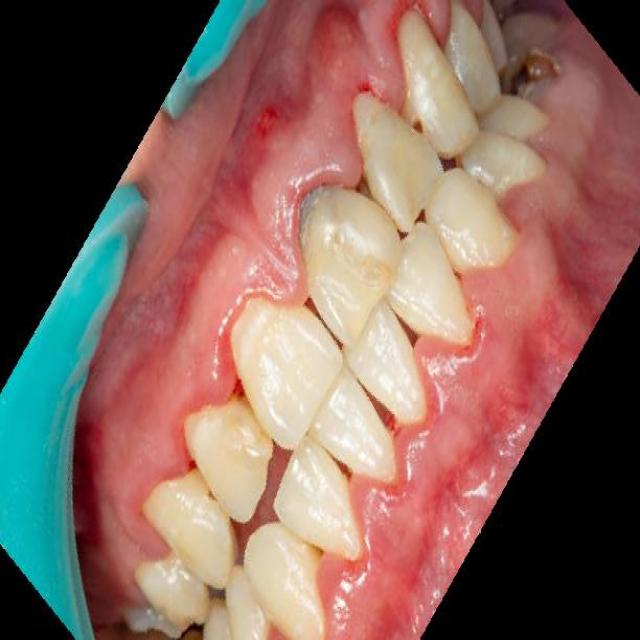caries: (499, 28, 570, 116)
